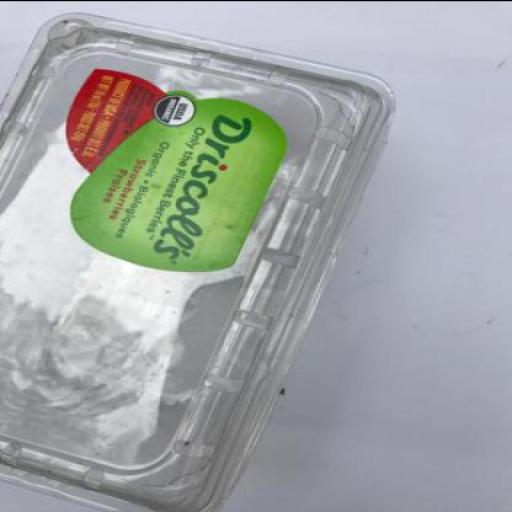plastic: (2, 11, 396, 511)
